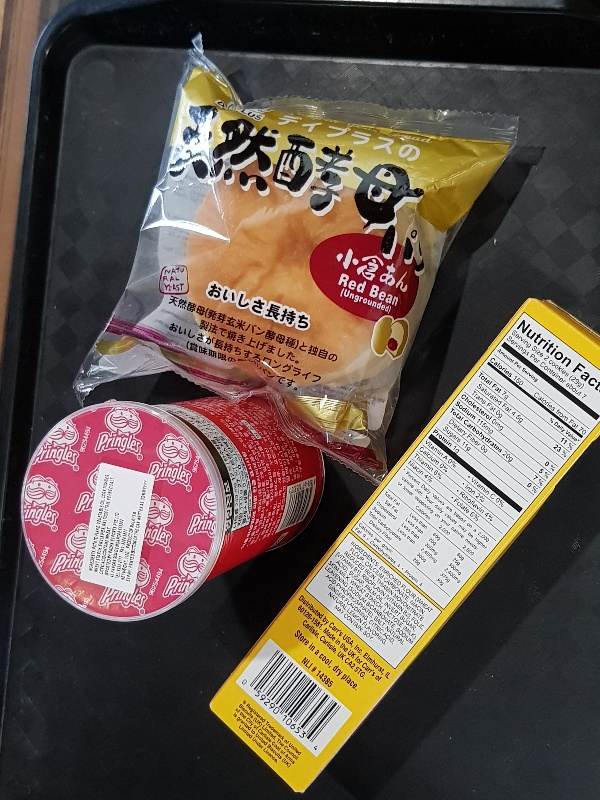Carr's Ginger Lemon Cremes: (208, 294, 600, 796)
Dayplus Red Bean: (70, 31, 522, 489)
Pringles Original: (19, 395, 330, 624)
